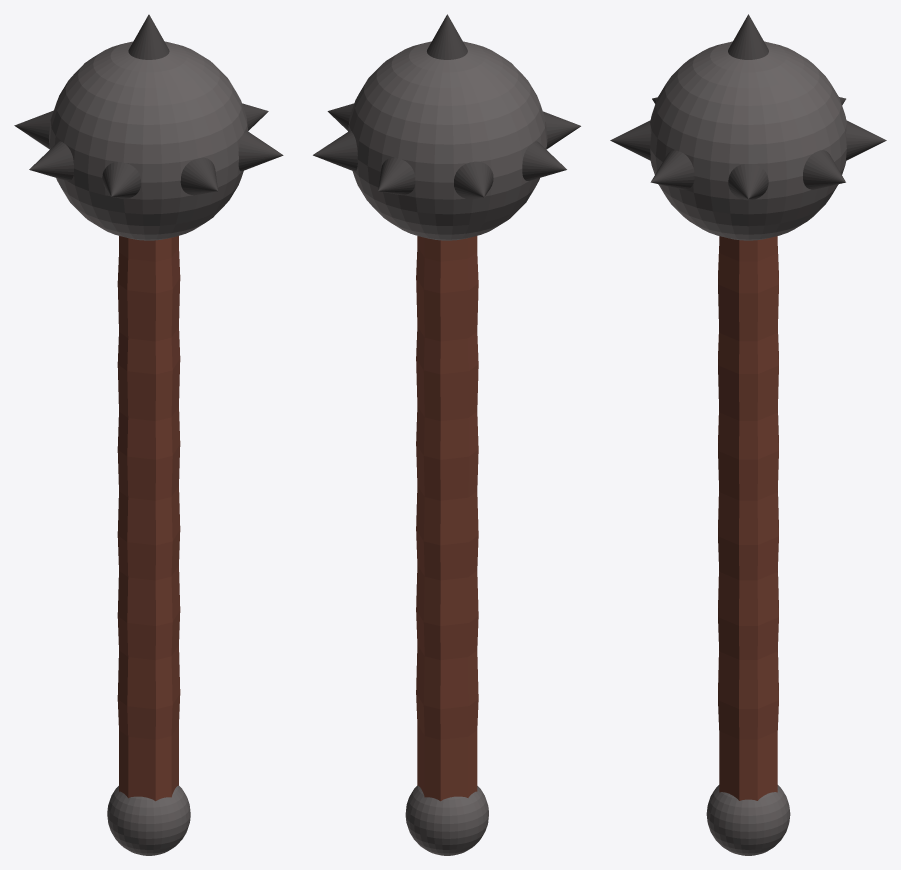
File: buzdugan.fbx
3 views of the same model, side by side, from view 1: azimuth 30°, elevation 25°; view 2: azimuth 150°, elevation 25°; view 3: azimuth 270°, elevation 25° (orthographic).
Visible parts, largest first — view 1: Cube.001, Sphere.001, Cone.006, Sphere; view 2: Cube.001, Sphere.001, Cone.006, Sphere; view 3: Cube.001, Sphere.001, Cone.006, Sphere.
Part boxes in pixels (x1,y1,x2,y2): Cube.001: (117,236,180,801); Sphere.001: (49,41,247,240); Cone.006: (14,14,283,198); Sphere: (107,785,190,855); Cube.001: (416,236,478,801); Sphere.001: (348,41,547,240); Cone.006: (313,14,580,199); Sphere: (405,785,488,855); Cube.001: (718,236,778,800); Sphere.001: (650,41,846,240); Cone.006: (610,14,886,200); Sphere: (706,785,790,855).
Size of the model in its own units: 66.25 by 221 by 66.16.
